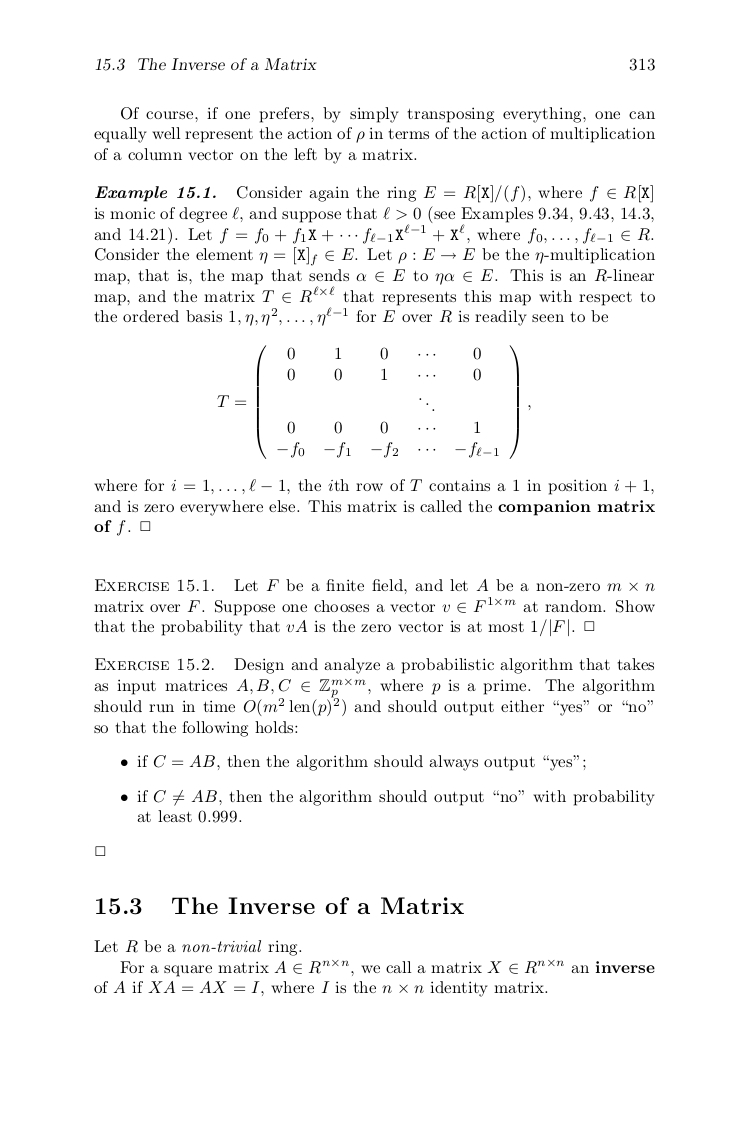formula: (217, 345, 530, 458)
